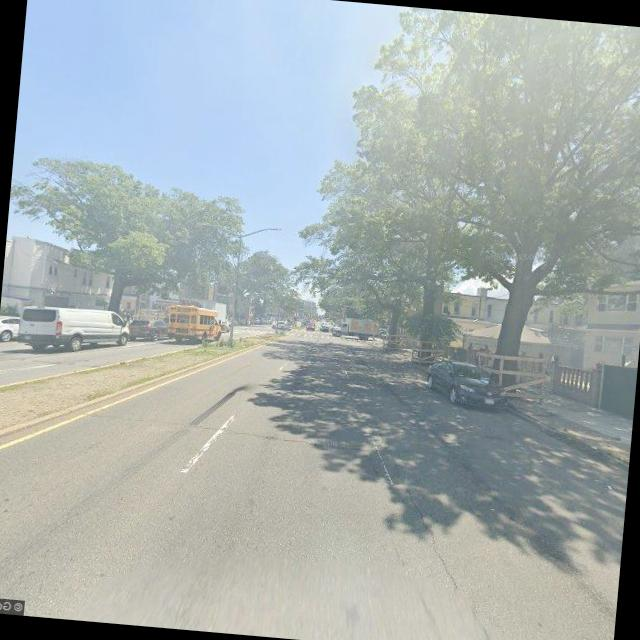crack: (362, 449, 512, 640), (77, 408, 416, 461)
